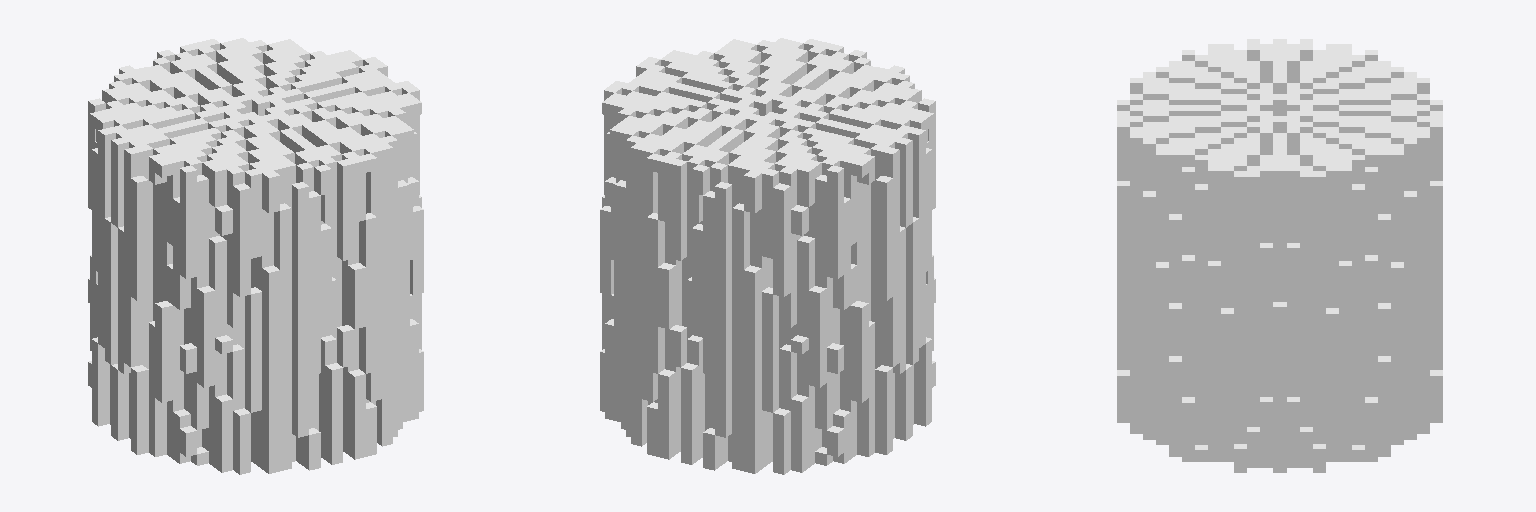
The model's file is charcoal.obj.
3 renders of one model, left to right at view 1: azimuth 30°, elevation 25°; view 2: azimuth 150°, elevation 25°; view 3: azimuth 270°, elevation 25°, orthographic.
Parts seen in each view (by area): view 1: object 1; view 2: object 1; view 3: object 1.
Boxes of the visible parts, <box> form: object 1: <box>88,38,423,474</box>; object 1: <box>600,38,935,474</box>; object 1: <box>1117,39,1442,472</box>.
Size of the model in its own units: 2.5 by 2.5 by 2.5.